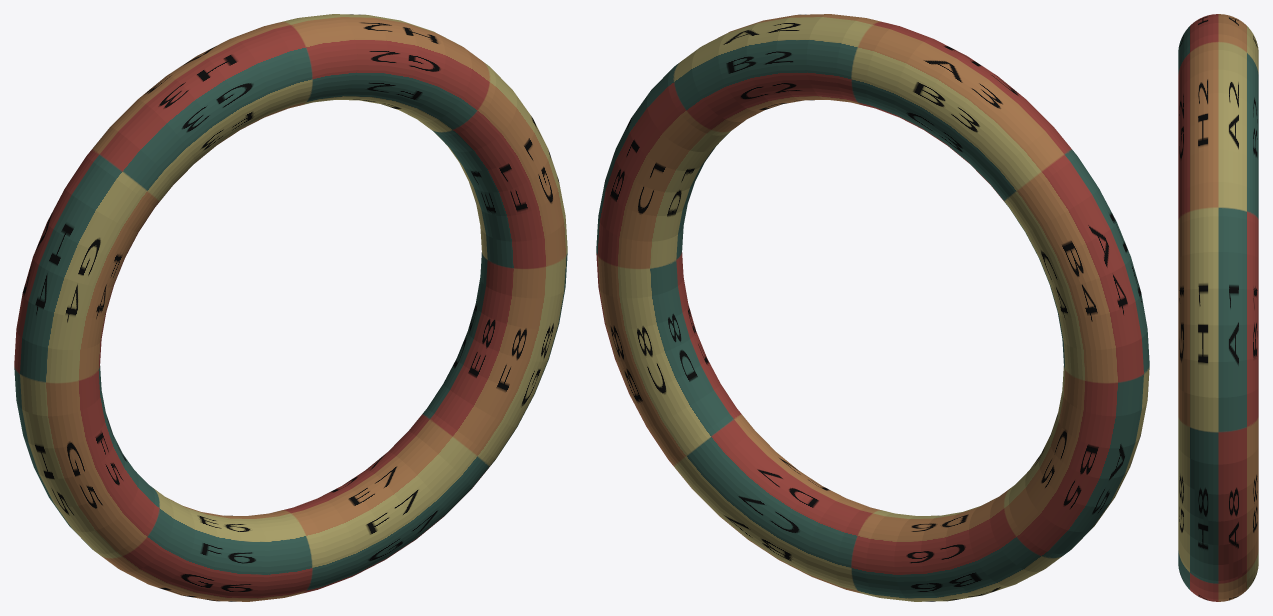
The model's file is texture_torus_R29_r10.glb.
3 renders of one model, left to right at view 1: azimuth 30°, elevation 25°; view 2: azimuth 150°, elevation 25°; view 3: azimuth 270°, elevation 25°, orthographic. The views are drawn at different scales.
Parts seen in each view (by area): view 1: world; view 2: world; view 3: world.
Part boxes in pixels (left/top/right/bottom): world: left=14, top=14, right=567, bottom=601; world: left=596, top=14, right=1149, bottom=601; world: left=1178, top=14, right=1258, bottom=601.
Size of the model in its own units: 34 by 33.93 by 4.66.
Materials: 1 (1 with a texture image).
